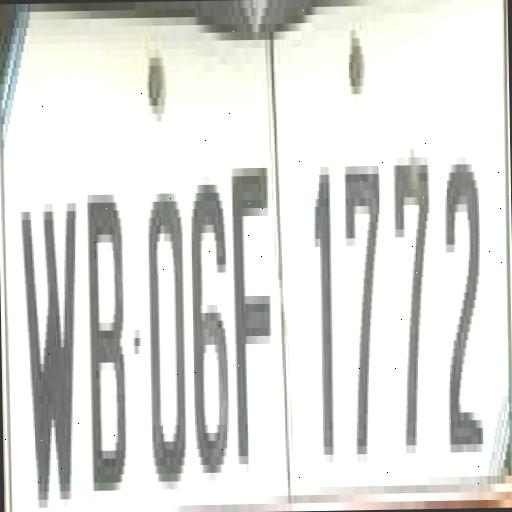number plate: (0, 4, 488, 512)
